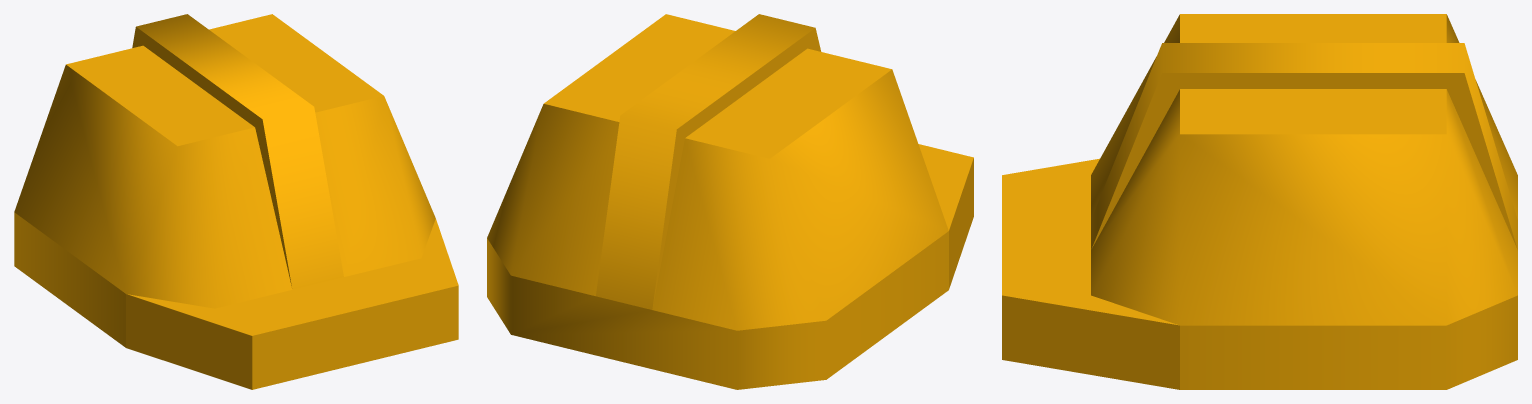
Rendered from Construction-hat.fbx.
3 views of the same model, side by side, from view 1: azimuth 30°, elevation 25°; view 2: azimuth 150°, elevation 25°; view 3: azimuth 270°, elevation 25° (orthographic). The views are drawn at different scales.
Parts seen in each view (by area): view 1: headwear_helmetConstruction; view 2: headwear_helmetConstruction; view 3: headwear_helmetConstruction.
Boxes of the visible parts, <box> form: headwear_helmetConstruction: <box>14,14,458,389</box>; headwear_helmetConstruction: <box>487,14,973,389</box>; headwear_helmetConstruction: <box>1002,14,1517,389</box>.
Bounding box in the file's own units: 2.4 × 1.5 × 2.9.
